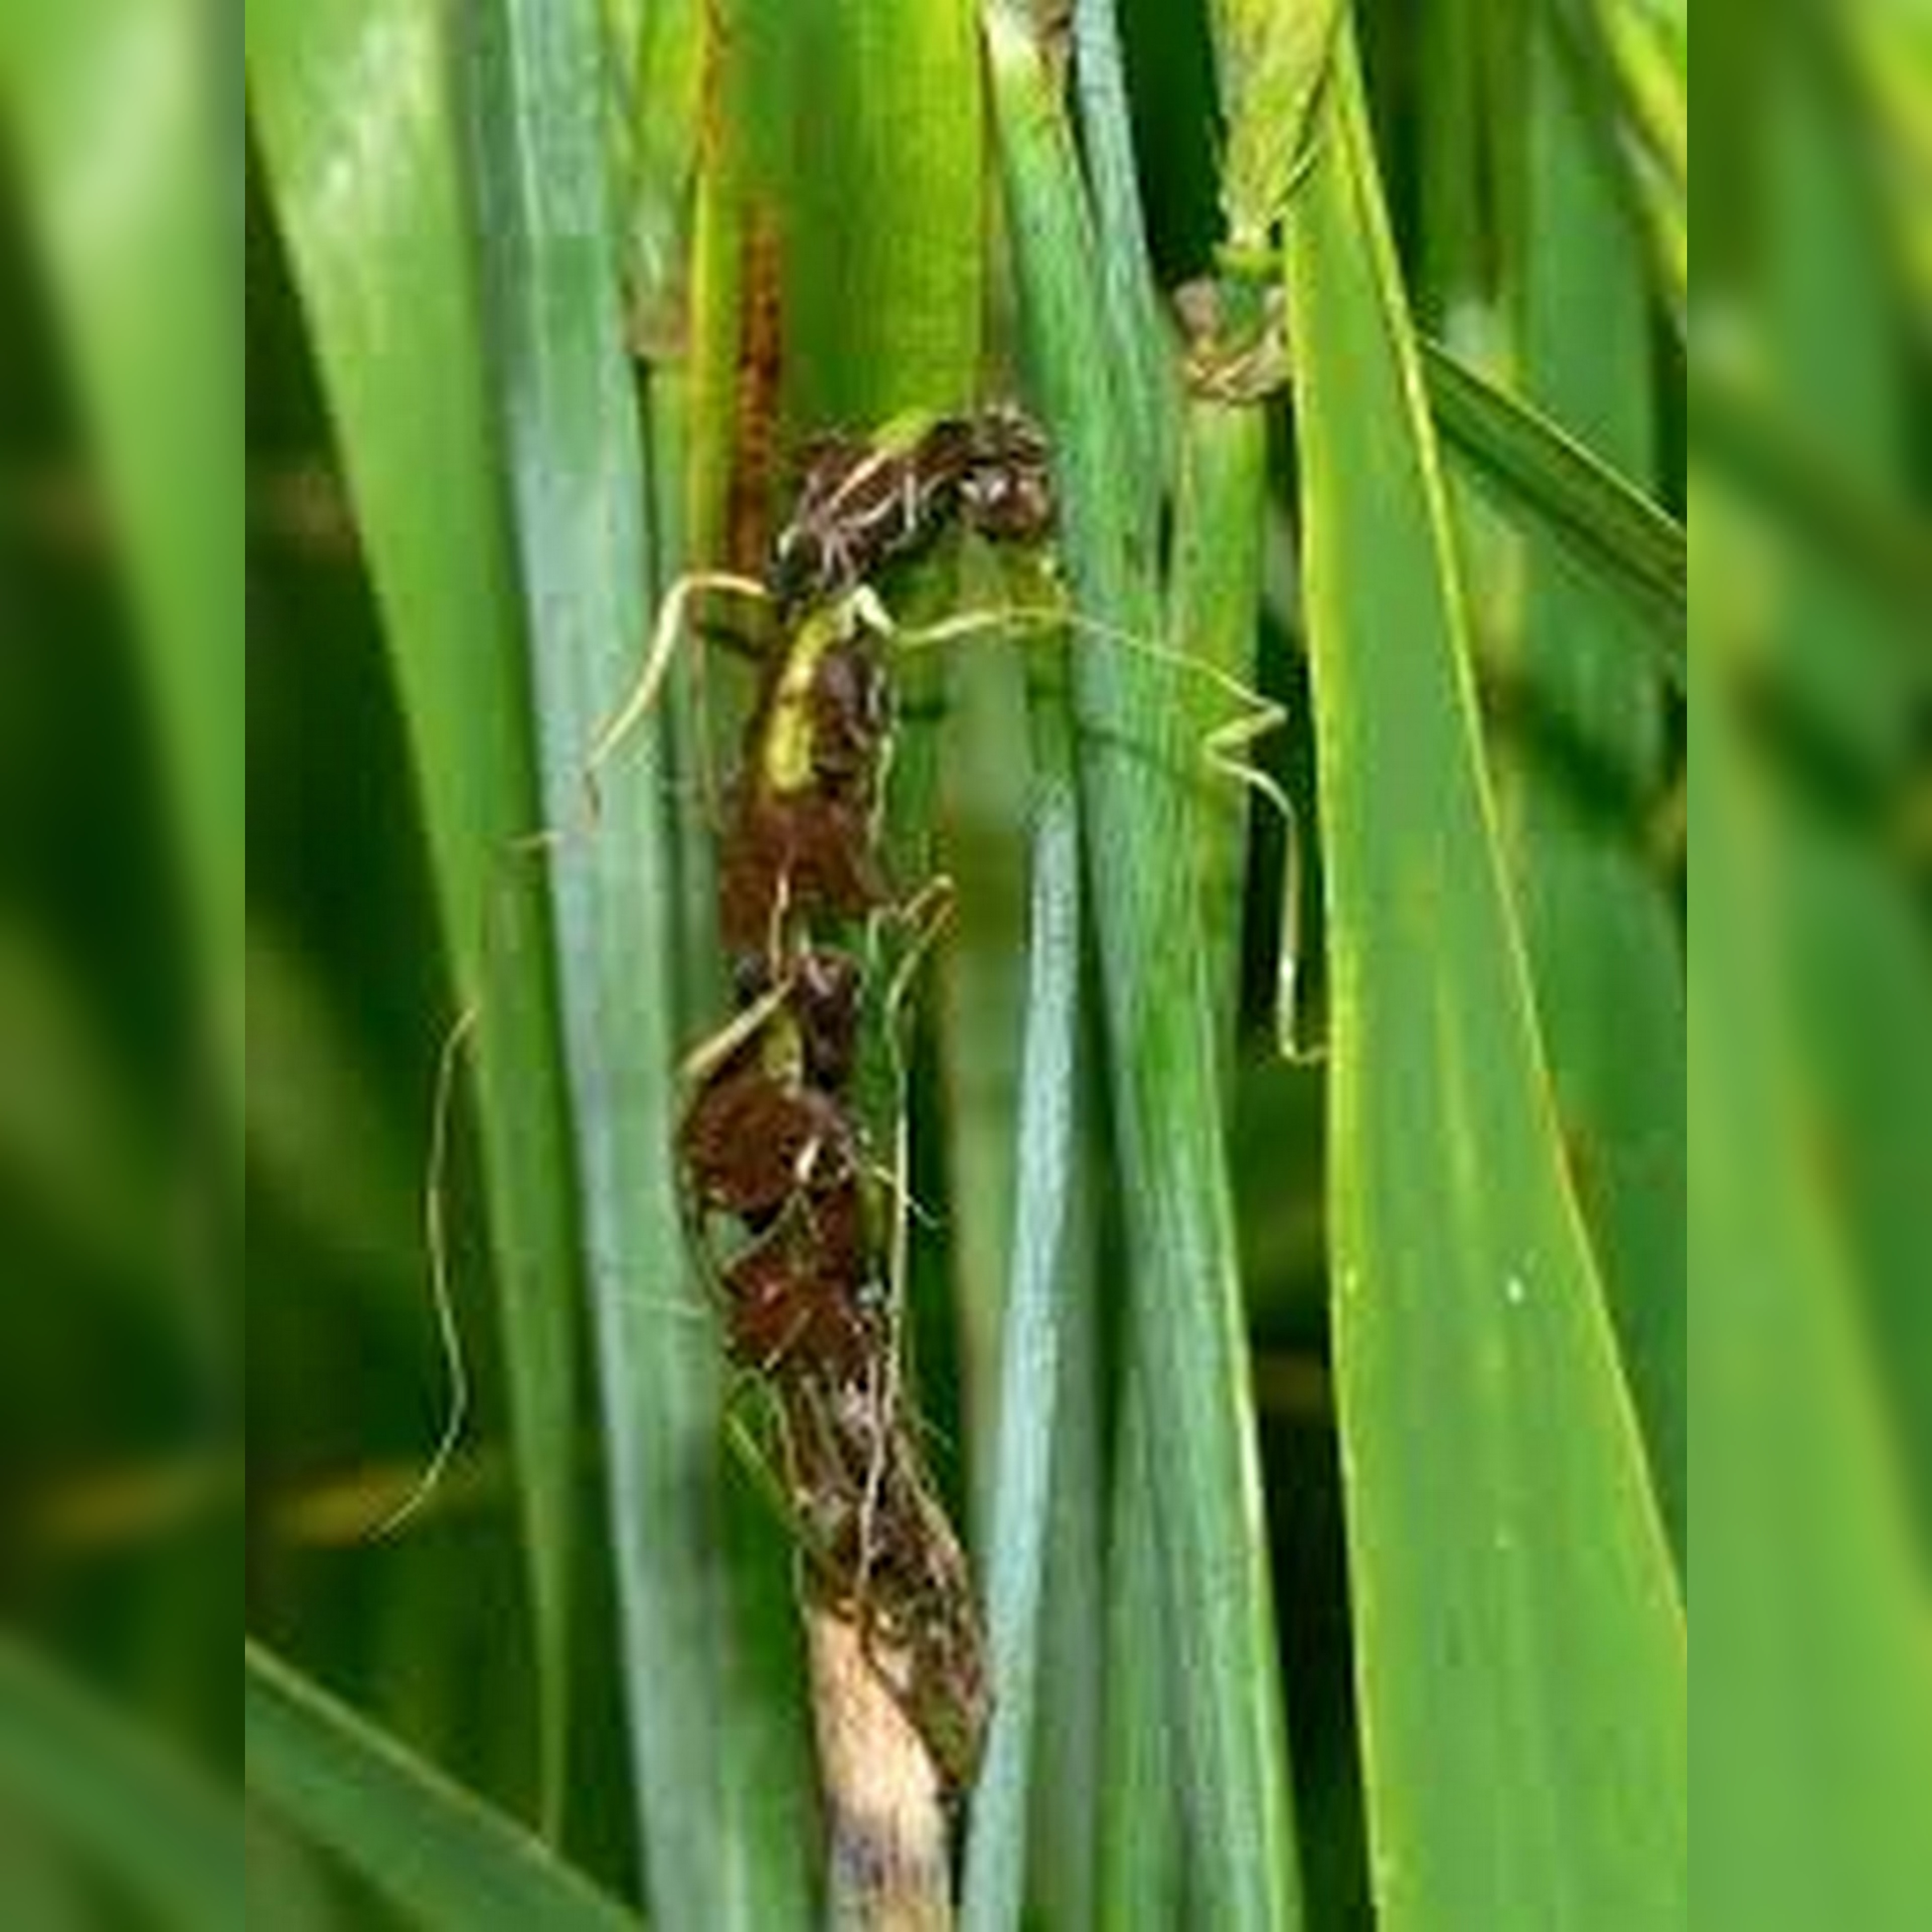Wheat Loose Smut: (672, 361, 1081, 1741)
